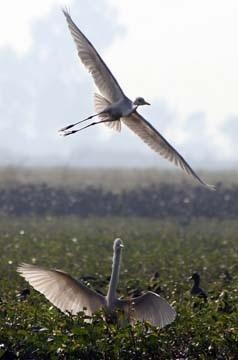bird: (58, 10, 216, 193), (17, 239, 178, 327)
